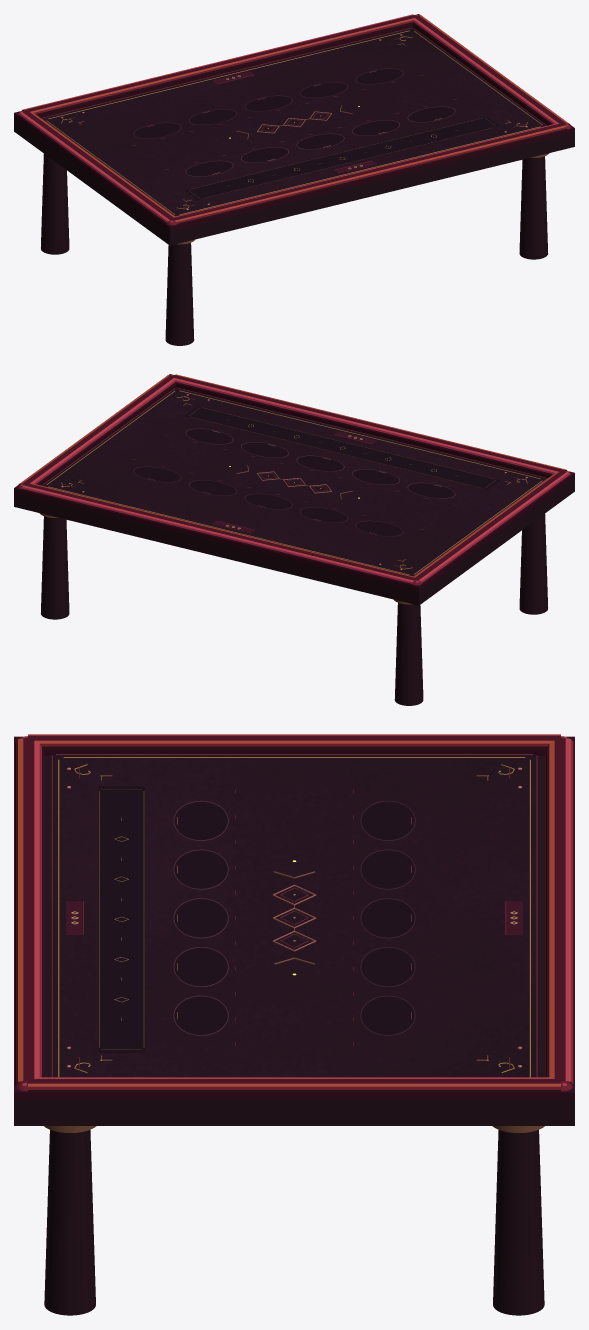
File: table.glb
3 views of the same model, one above another, from view 1: azimuth 30°, elevation 25°; view 2: azimuth 150°, elevation 25°; view 3: azimuth 270°, elevation 25° (orthographic). The views are drawn at different scales.
Parts seen in each view (by area): view 1: NearBlackCloth, BlackWineSlab, FlushResourceInlay, _MeshInstance3D_45, _MeshInstance3D_37, ShortLeg, _MeshInstance3D_24, EndRailCore, _MeshInstance3D_19, _MeshInstance3D_28, _MeshInstance3D_29, _MeshInstance3D_20 (+26 smaller); view 2: NearBlackCloth, BlackWineSlab, FlushResourceInlay, _MeshInstance3D_41, ShortLeg, _MeshInstance3D_37, EndRailCore, _MeshInstance3D_24, _MeshInstance3D_28, _MeshInstance3D_19, _MeshInstance3D_18, _MeshInstance3D_27 (+26 smaller); view 3: NearBlackCloth, BlackWineSlab, FlushResourceInlay, _MeshInstance3D_41, _MeshInstance3D_45, _MeshInstance3D_8, _MeshInstance3D_19, _MeshInstance3D_28, SideRailCore, _MeshInstance3D_4, _MeshInstance3D_12, _MeshInstance3D_13 (+28 smaller).
Part boxes in pixels (x1,y1,x2,y2): NearBlackCloth: [42, 28, 545, 216]; BlackWineSlab: [14, 27, 574, 245]; FlushResourceInlay: [185, 116, 499, 199]; _MeshInstance3D_45: [519, 156, 548, 259]; _MeshInstance3D_37: [165, 243, 194, 345]; ShortLeg: [41, 154, 69, 254]; _MeshInstance3D_24: [170, 123, 574, 231]; EndRailCore: [14, 14, 419, 118]; _MeshInstance3D_19: [24, 15, 416, 112]; _MeshInstance3D_28: [172, 123, 564, 220]; _MeshInstance3D_29: [175, 125, 566, 221]; _MeshInstance3D_20: [30, 18, 414, 112]; NearBlackCloth: [43, 388, 546, 576]; BlackWineSlab: [14, 387, 574, 605]; FlushResourceInlay: [185, 406, 499, 489]; _MeshInstance3D_41: [40, 516, 69, 619]; ShortLeg: [394, 603, 423, 705]; _MeshInstance3D_37: [519, 514, 547, 614]; EndRailCore: [14, 485, 420, 591]; _MeshInstance3D_24: [169, 374, 574, 477]; _MeshInstance3D_28: [172, 375, 564, 472]; _MeshInstance3D_19: [24, 483, 415, 580]; _MeshInstance3D_18: [22, 485, 413, 581]; _MeshInstance3D_27: [174, 378, 558, 472]; NearBlackCloth: [50, 755, 538, 1077]; BlackWineSlab: [14, 756, 574, 1125]; FlushResourceInlay: [98, 786, 144, 1052]; _MeshInstance3D_41: [493, 1130, 544, 1315]; _MeshInstance3D_45: [44, 1130, 95, 1315]; _MeshInstance3D_8: [14, 1079, 574, 1099]; _MeshInstance3D_19: [554, 738, 565, 1080]; _MeshInstance3D_28: [23, 738, 34, 1080]; SideRailCore: [14, 736, 574, 755]; _MeshInstance3D_4: [28, 735, 560, 740]; _MeshInstance3D_12: [28, 1079, 560, 1083]; _MeshInstance3D_13: [28, 1083, 560, 1086].
Size of the model in its own units: 2.7 by 0.849 by 1.8.
89 materials, 1 textured.
